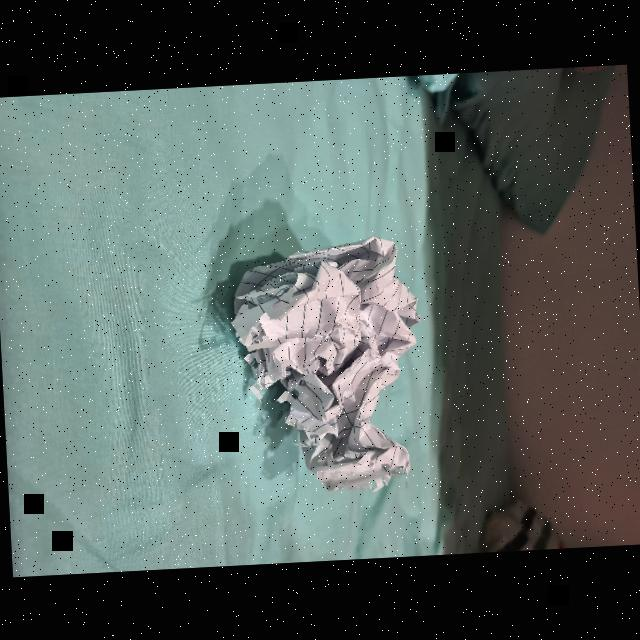scrap_paper: (230, 232, 424, 492)
